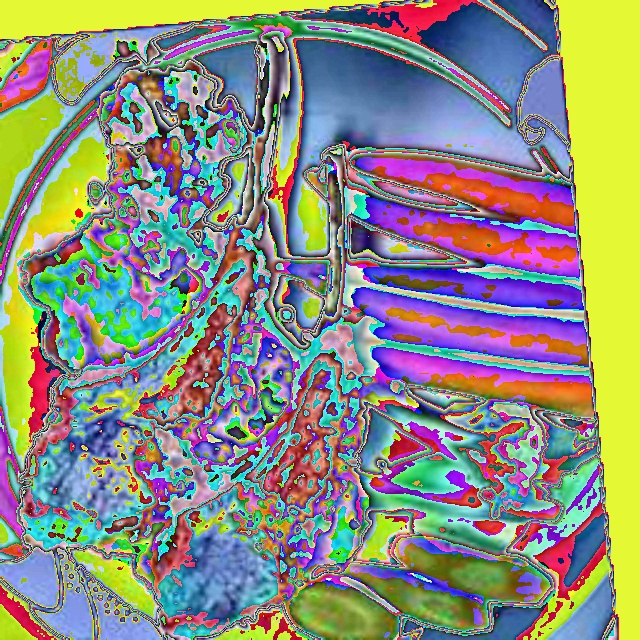background: (18, 38, 599, 639)
